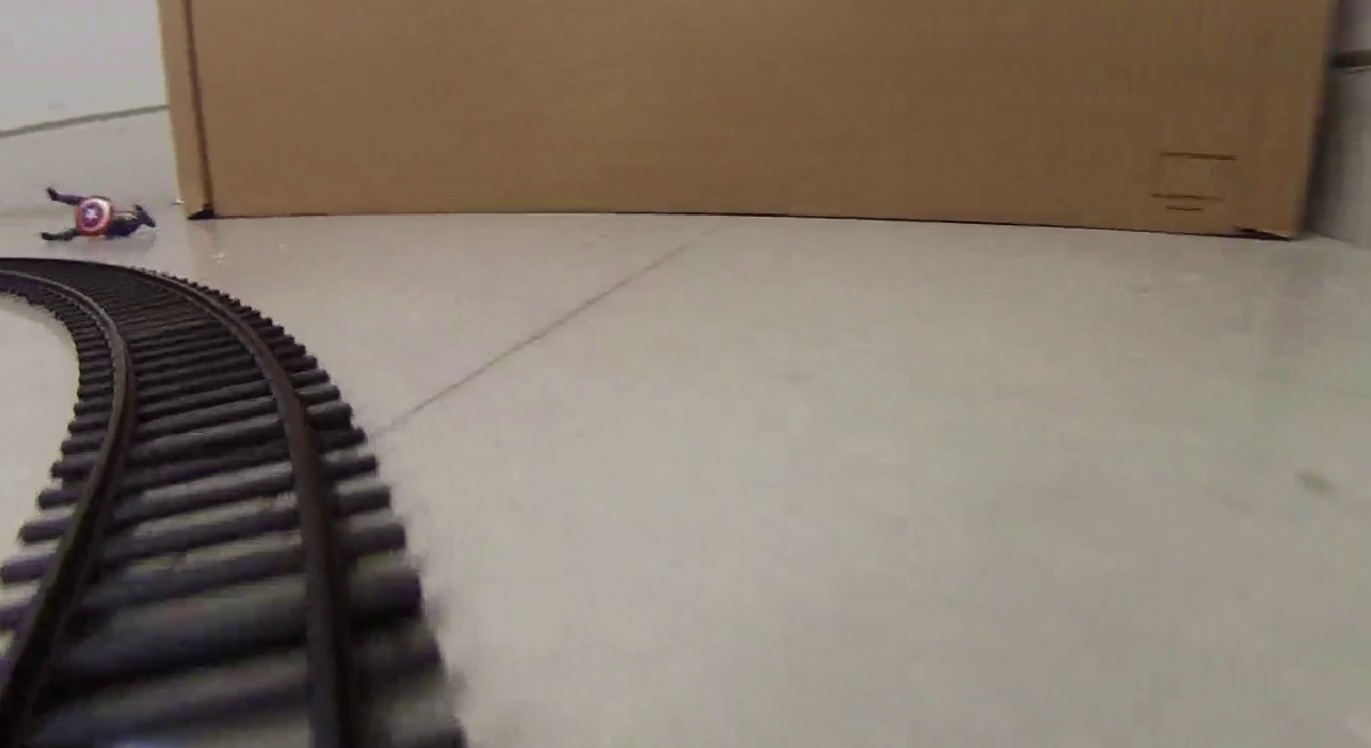people: (39, 184, 158, 245)
